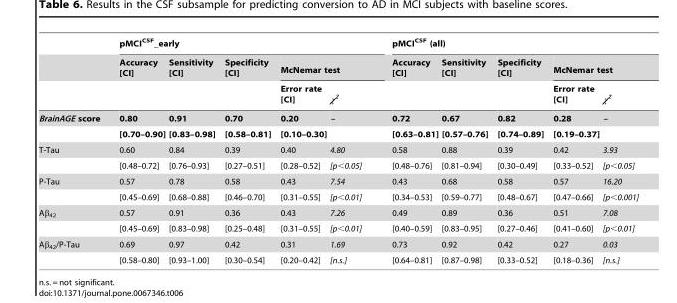table: (37, 37, 638, 264)
table column: (37, 37, 109, 264), (376, 37, 439, 264), (109, 37, 166, 264), (219, 37, 275, 264), (491, 37, 547, 264), (166, 37, 219, 264), (547, 37, 600, 264), (275, 37, 327, 264), (439, 37, 491, 264), (327, 37, 376, 264), (600, 37, 638, 264)
table column header: (37, 37, 638, 108)
table row: (37, 52, 638, 80), (37, 80, 638, 108), (37, 108, 638, 126), (37, 141, 638, 157), (37, 157, 638, 173), (37, 188, 638, 204), (37, 204, 638, 220), (37, 220, 638, 236), (37, 236, 638, 252), (37, 37, 638, 52), (37, 126, 638, 141), (37, 173, 638, 188), (37, 252, 638, 264)
table spanning cell: (109, 37, 376, 52), (376, 37, 638, 52), (376, 52, 439, 108), (109, 52, 166, 108), (219, 52, 275, 108), (491, 52, 547, 108), (166, 52, 219, 108), (439, 52, 491, 108), (275, 52, 376, 80), (547, 52, 638, 80), (37, 108, 109, 141), (37, 141, 109, 173), (37, 204, 109, 236), (37, 173, 109, 204), (37, 236, 109, 264)
